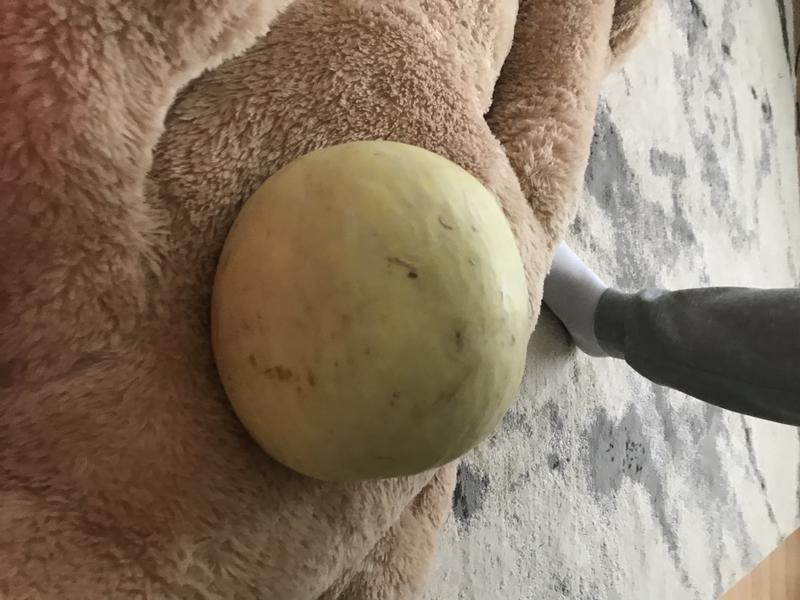honeydew: (204, 134, 530, 492)
